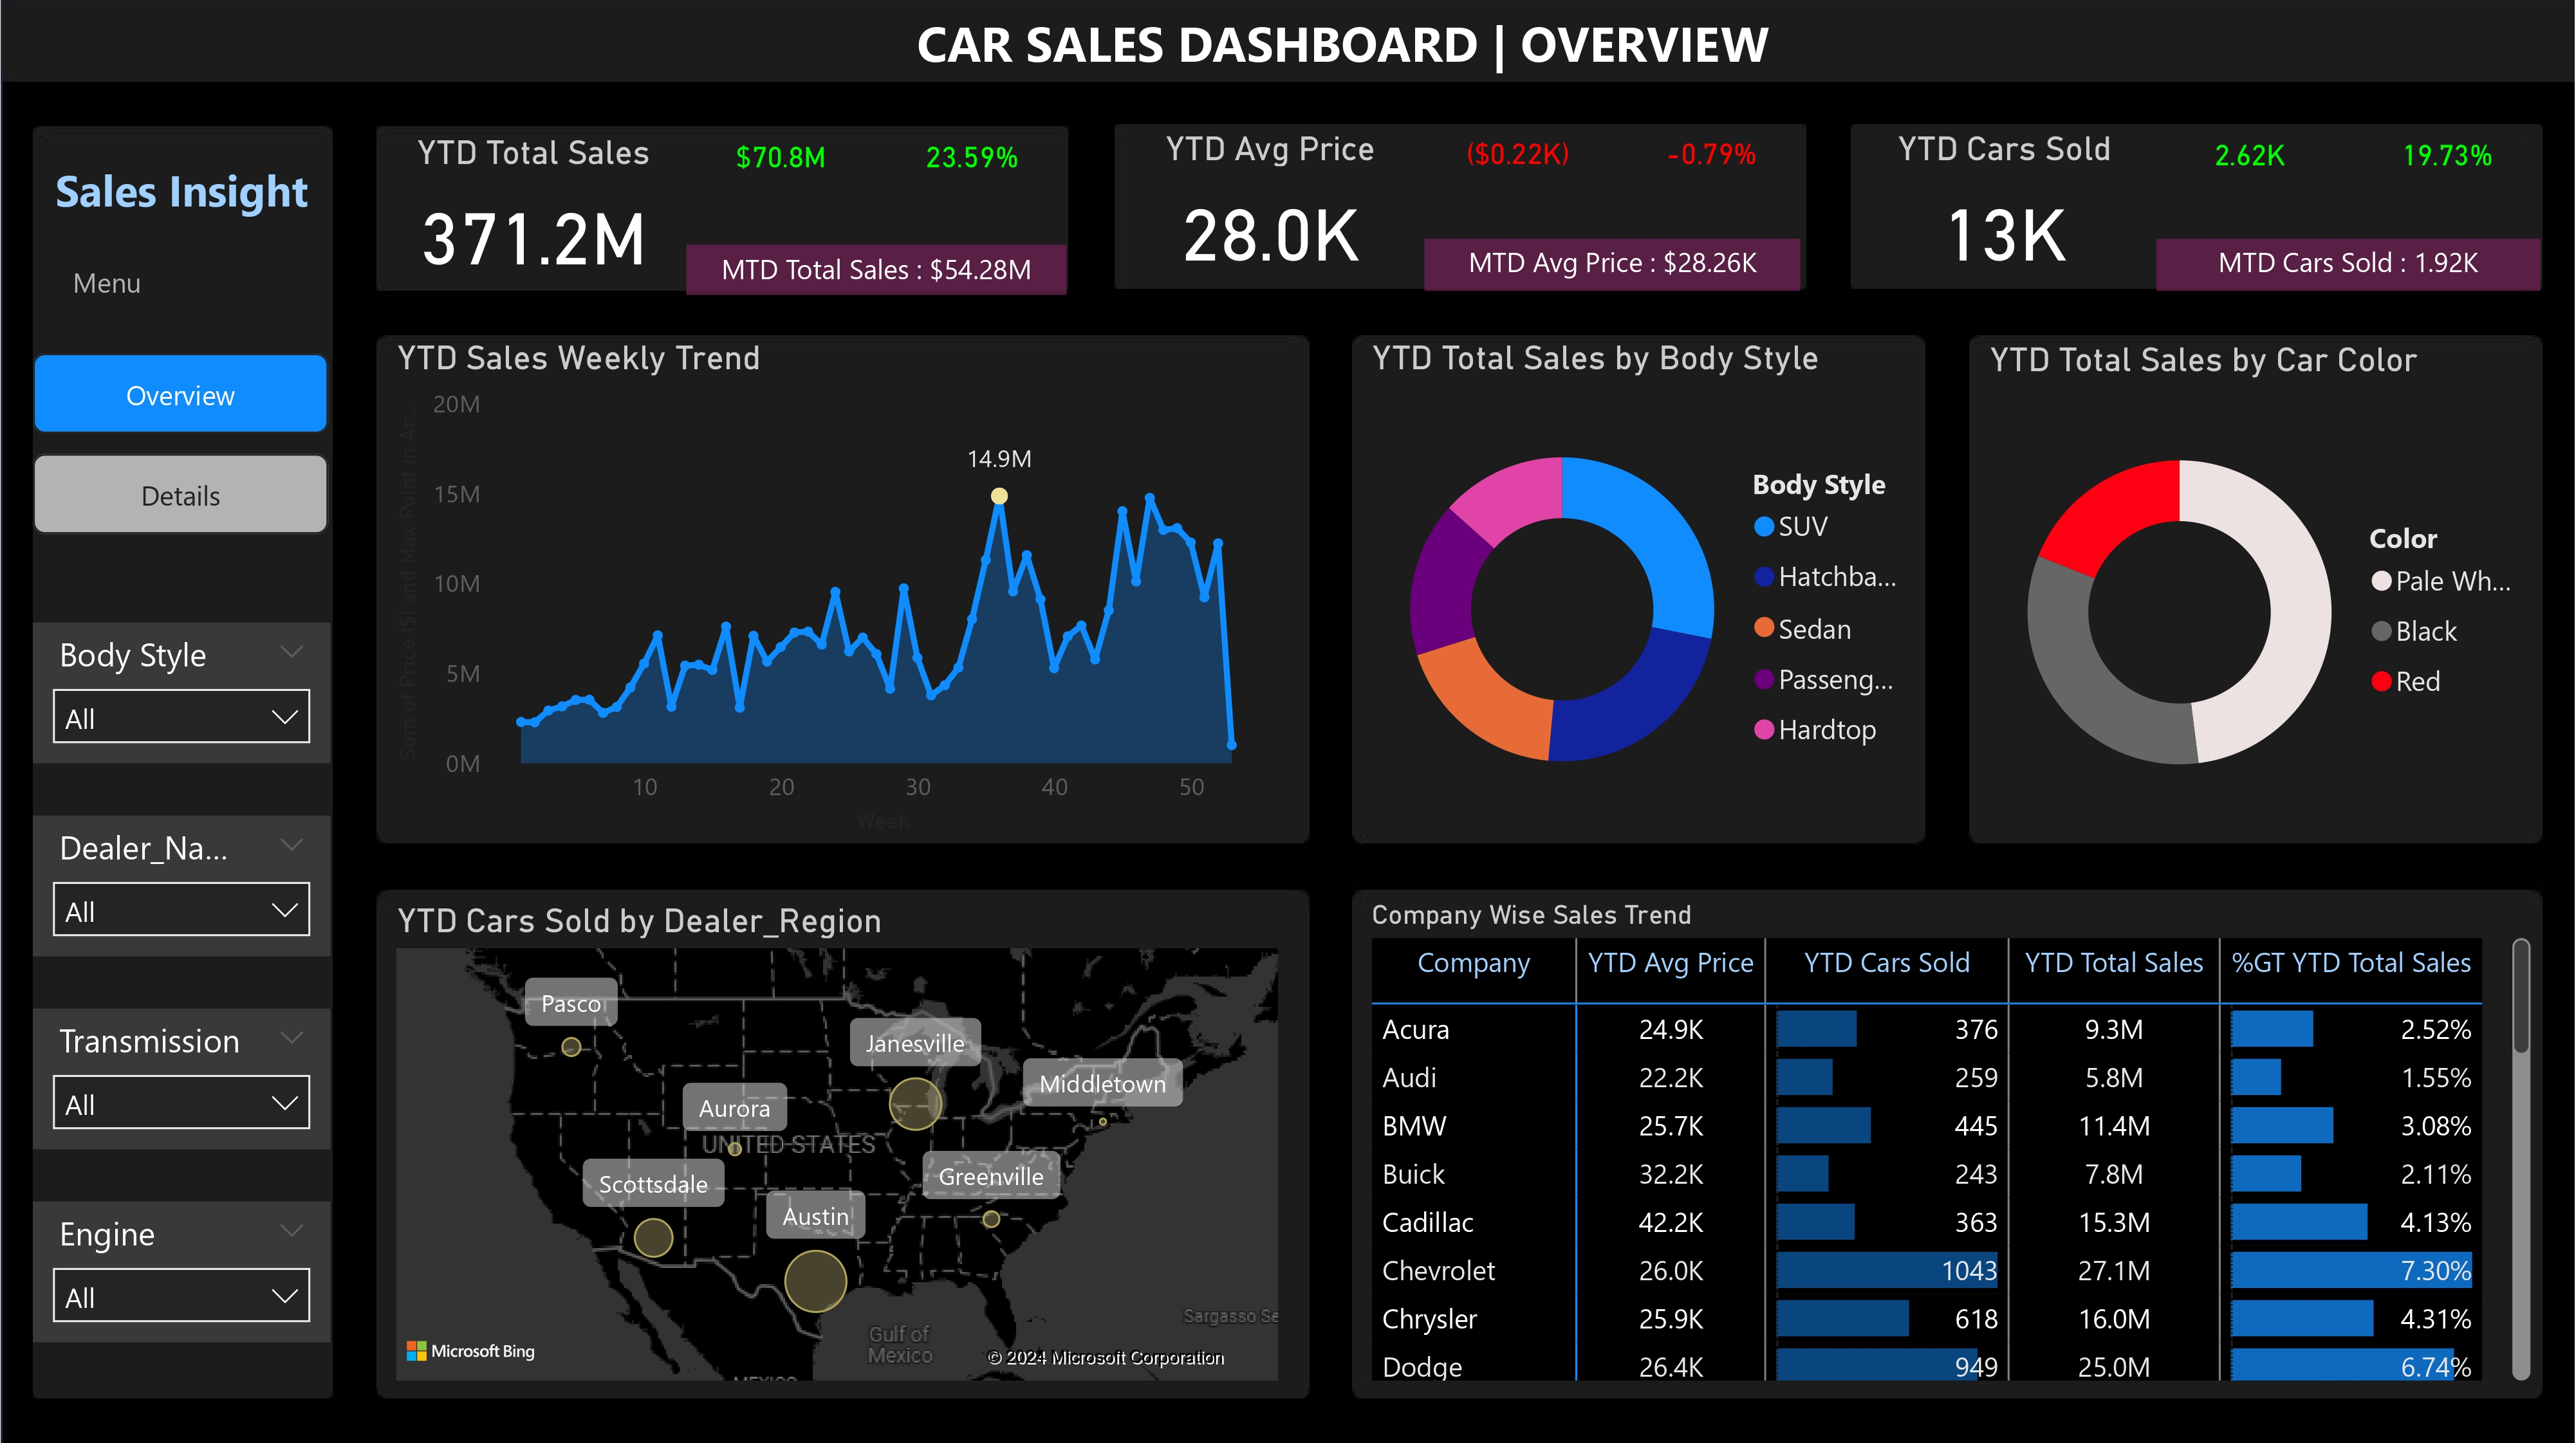

What the dashboard file says about the page in this screenshot:
{"tool":"powerbi","page":{"name":"Overview","canvas":[1280,720],"ordinal":0},"visuals":[{"type":"card","title":"YTD Total Sales","fields":{"Values":["car_data.YTD Total Sales"]},"box":[189.1,65.7,151.7,81.7],"z":0},{"type":"card","fields":{"Values":["car_data.Sales Difference"]},"box":[340.9,65.7,93.9,27.4],"z":1000},{"type":"card","fields":{"Values":["car_data.YoY Sales Growth"]},"box":[435.9,65.6,94.1,27.4],"z":2000},{"type":"card","fields":{"Values":["car_data.MTD KPI"]},"box":[340.9,121.7,189.1,25.7],"z":3000},{"type":"card","title":"YTD Avg Price","fields":{"Values":["car_data.YTD Avg Price"]},"box":[555.7,64.3,151.1,81.1],"z":4000},{"type":"card","fields":{"Values":["car_data.Avg Price Diff"]},"box":[707.6,64.3,93,27.6],"z":5000},{"type":"card","fields":{"Values":["car_data.YoY Avg Price Growth"]},"box":[803.8,64.3,93,27.6],"z":6000},{"type":"card","fields":{"Values":["car_data.MTD Avg Price KPI"]},"box":[707.6,119.2,187.6,25.9],"z":7000},{"type":"card","title":"YTD Cars Sold","fields":{"Values":["car_data.YTD Cars Sold"]},"box":[921.1,64.3,151.1,81.1],"z":8000},{"type":"card","fields":{"Values":["car_data.Cars Sold Diff"]},"box":[1072.2,64.5,93,27.8],"z":9000},{"type":"card","fields":{"Values":["car_data.MTD Cars Sold KPI"]},"box":[1072.2,119.2,191,25.8],"z":10000},{"type":"card","fields":{"Values":["car_data.YoY Cars Sold Growth"]},"box":[1170.2,64.5,93,27.5],"z":11000},{"type":"areaChart","title":"YTD Sales Weekly Trend","fields":{"Category":["Calendar Table.Week"],"Y":["Sum(car_data.Price ($))","car_data.Max Point in Area chart"]},"box":[191.9,167.6,441.9,252.7],"z":12000},{"type":"donutChart","title":"YTD Total Sales by Body Style","fields":{"Y":["car_data.YTD Cars Sold"],"Category":["car_data.Body Style"]},"box":[677,167.6,279.7,252.7],"z":13000},{"type":"donutChart","title":"YTD Total Sales by Car Color","fields":{"Y":["car_data.YTD Cars Sold"],"Category":["car_data.Color"]},"box":[983.8,168.9,279.7,252.7],"z":14000},{"type":"map","fields":{"Category":["car_data.Dealer_Region"],"Size":["car_data.YTD Cars Sold"]},"box":[191.7,447.6,448.8,244],"z":15000},{"type":"pivotTable","title":"Company Wise Sales Trend","fields":{"Rows":["car_data.Company"],"Values":["car_data.YTD Avg Price","car_data.YTD Cars Sold","car_data.YTD Total Sales1","car_data.YTD Total Sales"]},"box":[677.4,447.6,585.7,244],"z":16000},{"type":"textbox","box":[440,0,455,45],"z":17000},{"type":"slicer","fields":{"Values":["car_data.Body Style"]},"box":[15.9,310,147.6,70],"z":18000},{"type":"slicer","fields":{"Values":["car_data.Dealer_Name"]},"box":[15.9,405.9,147.6,70],"z":19000},{"type":"slicer","fields":{"Values":["car_data.Transmission"]},"box":[15.9,501.8,147.6,70],"z":20000},{"type":"slicer","fields":{"Values":["car_data.Engine"]},"box":[15.9,597.6,147.6,70],"z":21000},{"type":"pageNavigator","box":[16,175.5,147.5,90],"z":22000},{"type":"textbox","box":[15.9,74.5,147.7,42.3],"z":23000},{"type":"textbox","box":[15.8,126.8,74.2,31.1],"z":24000}]}

Visuals, with their boxes in screenshot pixels (x1, y1, x2, y2), scaled from the page's 1280x720 canvas onto the 2576x1443 screenshot:
"YTD Total Sales" card: BBox(380, 132, 686, 295)
card - car_data.Sales Difference: BBox(686, 132, 875, 187)
card - car_data.YoY Sales Growth: BBox(877, 131, 1066, 187)
card - car_data.MTD KPI: BBox(686, 244, 1066, 295)
"YTD Avg Price" card: BBox(1118, 129, 1422, 291)
card - car_data.Avg Price Diff: BBox(1424, 129, 1611, 184)
card - car_data.YoY Avg Price Growth: BBox(1618, 129, 1805, 184)
card - car_data.MTD Avg Price KPI: BBox(1424, 239, 1802, 291)
"YTD Cars Sold" card: BBox(1854, 129, 2158, 291)
card - car_data.Cars Sold Diff: BBox(2158, 129, 2345, 185)
card - car_data.MTD Cars Sold KPI: BBox(2158, 239, 2542, 291)
card - car_data.YoY Cars Sold Growth: BBox(2355, 129, 2542, 185)
"YTD Sales Weekly Trend" areaChart: BBox(386, 336, 1275, 842)
"YTD Total Sales by Body Style" donutChart: BBox(1362, 336, 1925, 842)
"YTD Total Sales by Car Color" donutChart: BBox(1980, 338, 2543, 845)
map - car_data.Dealer_Region x car_data.YTD Cars Sold: BBox(386, 897, 1289, 1386)
"Company Wise Sales Trend" pivotTable: BBox(1363, 897, 2542, 1386)
textbox: BBox(885, 0, 1801, 90)
slicer - car_data.Body Style: BBox(32, 621, 329, 762)
slicer - car_data.Dealer_Name: BBox(32, 813, 329, 954)
slicer - car_data.Transmission: BBox(32, 1006, 329, 1146)
slicer - car_data.Engine: BBox(32, 1198, 329, 1338)
pageNavigator: BBox(32, 352, 329, 532)
textbox: BBox(32, 149, 329, 234)
textbox: BBox(32, 254, 181, 317)
